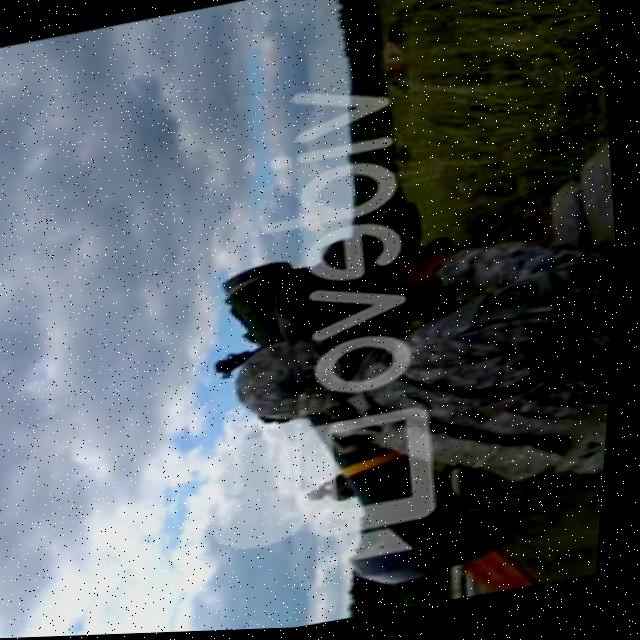rocket: (204, 223, 543, 611)
